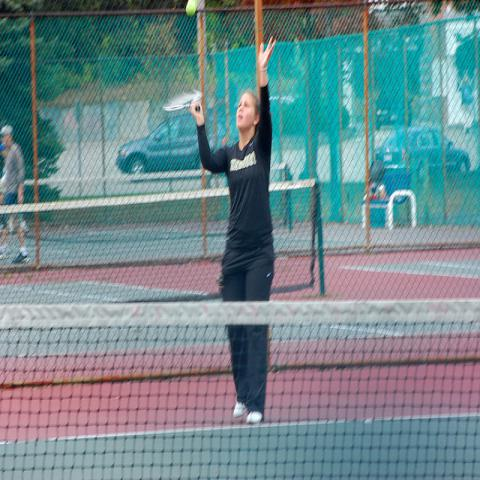car: (116, 117, 204, 177), (374, 127, 471, 181), (272, 89, 352, 133)
